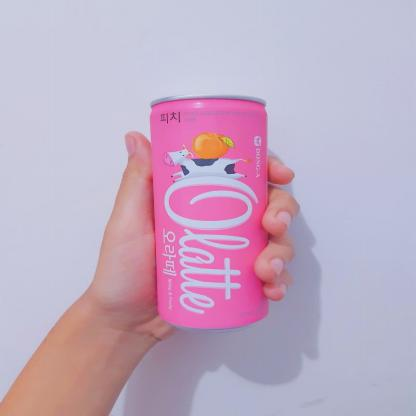mouse: (143, 89, 274, 332)
